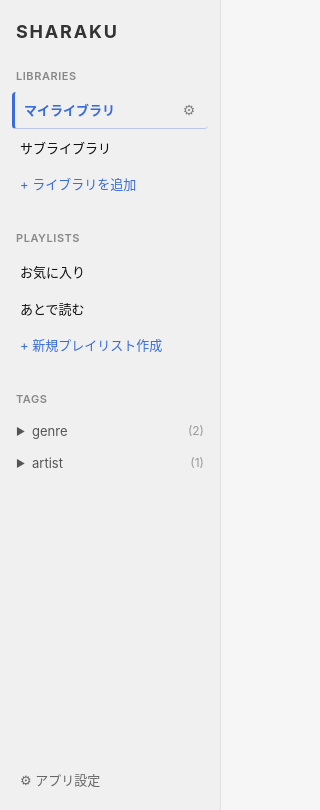
Sidebar コンポーネント › カテゴリヘッダーをクリックするとタグリストが展開される
Check: the text "Tags" is shown, box [16, 392, 48, 406]
Click the button "▶ genre (2)": (110,431) [12, 415, 208, 447]
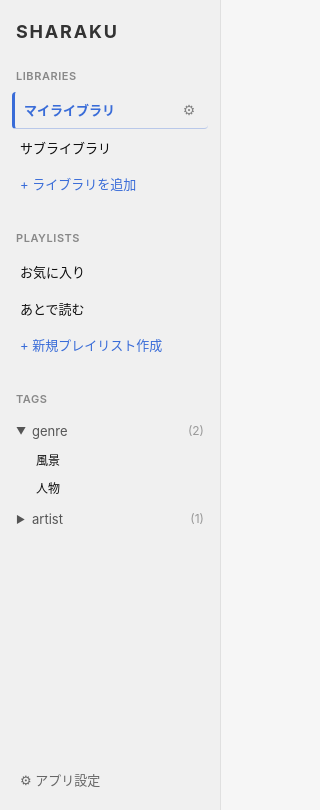
Check: the button "風景" is shown, box [28, 447, 208, 475]
Check: the button "人物" is shown, box [28, 475, 208, 503]
